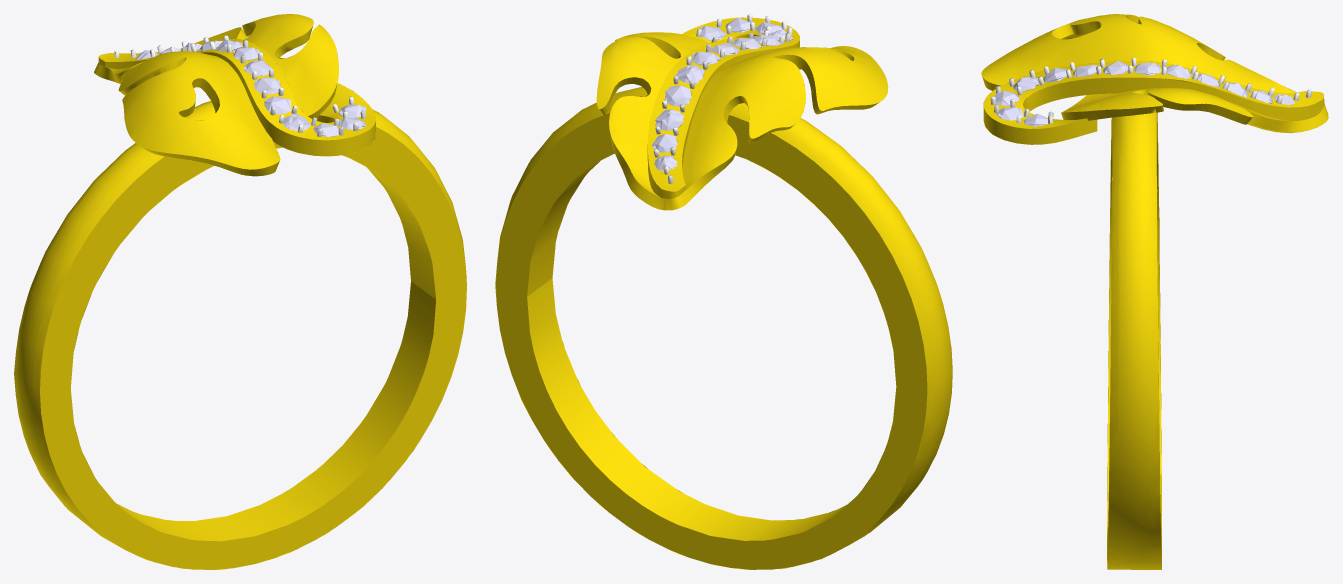
The model's file is DLR-D000657512.glb.
3 renders of one model, left to right at view 1: azimuth 30°, elevation 25°; view 2: azimuth 150°, elevation 25°; view 3: azimuth 270°, elevation 25°, orthographic. The views are drawn at different scales.
Visible parts, largest first — view 1: highPolyMesh, lowPolyMesh; view 2: lowPolyMesh, highPolyMesh; view 3: highPolyMesh, lowPolyMesh.
Part boxes in pixels (box(x1,y1,x2,y2)): highPolyMesh: box(15, 14, 466, 569); lowPolyMesh: box(14, 14, 466, 569); lowPolyMesh: box(495, 15, 952, 569); highPolyMesh: box(496, 14, 952, 569); highPolyMesh: box(981, 14, 1327, 569); lowPolyMesh: box(981, 14, 1328, 569).
Size of the model in its own units: 0.02 by 0.022 by 0.0139.
